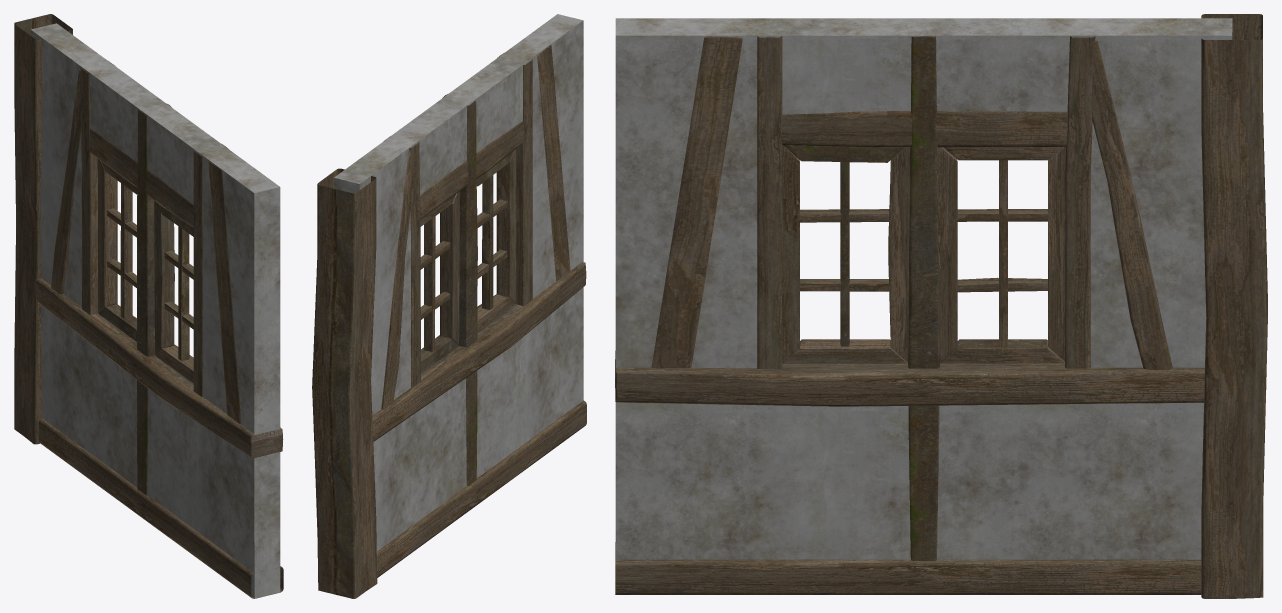
File: SM_Wall21.fbx
The picture shows the model from 3 angles, left to right: view 1: azimuth 30°, elevation 25°; view 2: azimuth 150°, elevation 25°; view 3: azimuth 270°, elevation 25°; orthographic projection. The views are drawn at different scales.
Parts seen in each view (by area): view 1: SM_Wall21_LOD0; view 2: SM_Wall21_LOD0; view 3: SM_Wall21_LOD0.
Part boxes in pixels (bbox=[...]): SM_Wall21_LOD0: bbox=[14, 14, 283, 598]; SM_Wall21_LOD0: bbox=[312, 14, 586, 598]; SM_Wall21_LOD0: bbox=[615, 14, 1267, 598].
Bounding box in the file's own units: 36.24 × 318 × 300.
